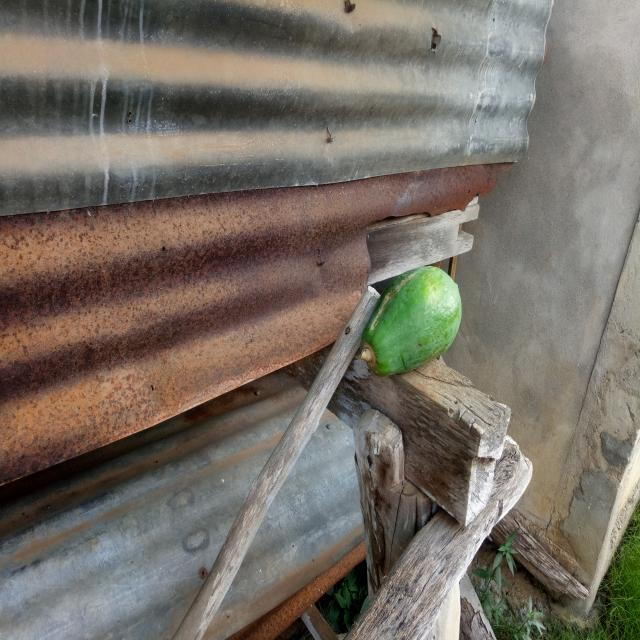Pepaya unrippen: (352, 255, 466, 383)
